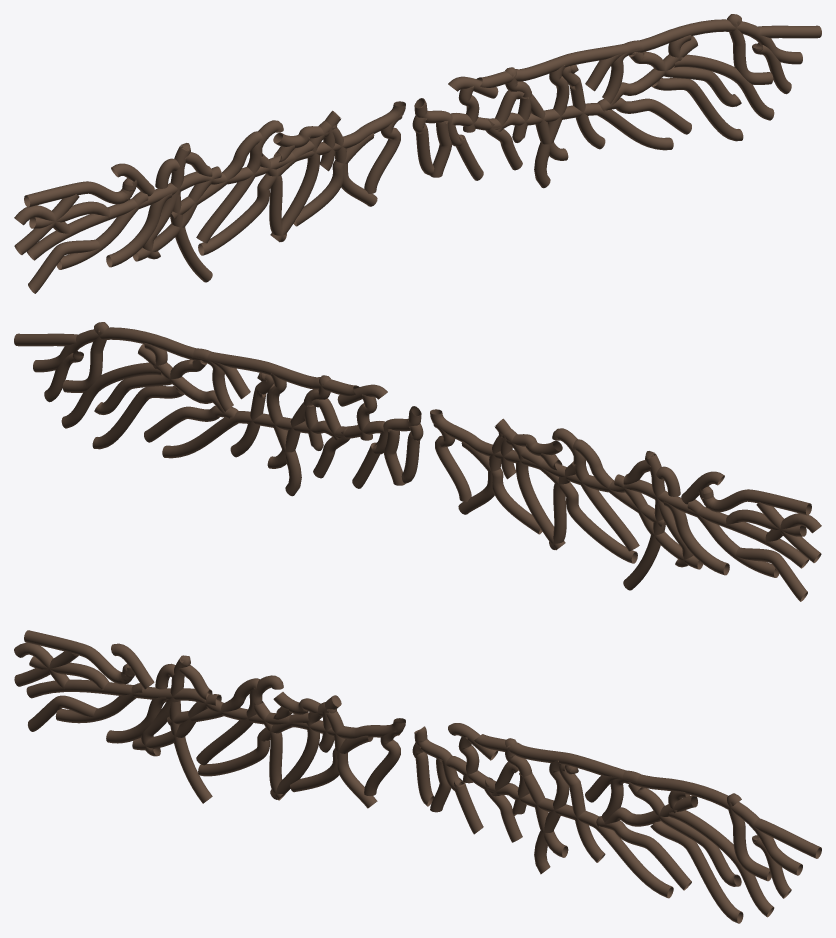
File: ROODS.fbx
3 renders of one model, top to bottom at view 1: azimuth 30°, elevation 25°; view 2: azimuth 150°, elevation 25°; view 3: azimuth 330°, elevation 25°, orthographic.
Visible parts, largest first — view 1: BezierCurve; view 2: BezierCurve; view 3: BezierCurve.
Part boxes in pixels (left/top/right/bottom): BezierCurve: left=14, top=14, right=821, bottom=293; BezierCurve: left=14, top=322, right=821, bottom=601; BezierCurve: left=14, top=630, right=821, bottom=923.
Size of the model in its own units: 7740 by 1325 by 104.
